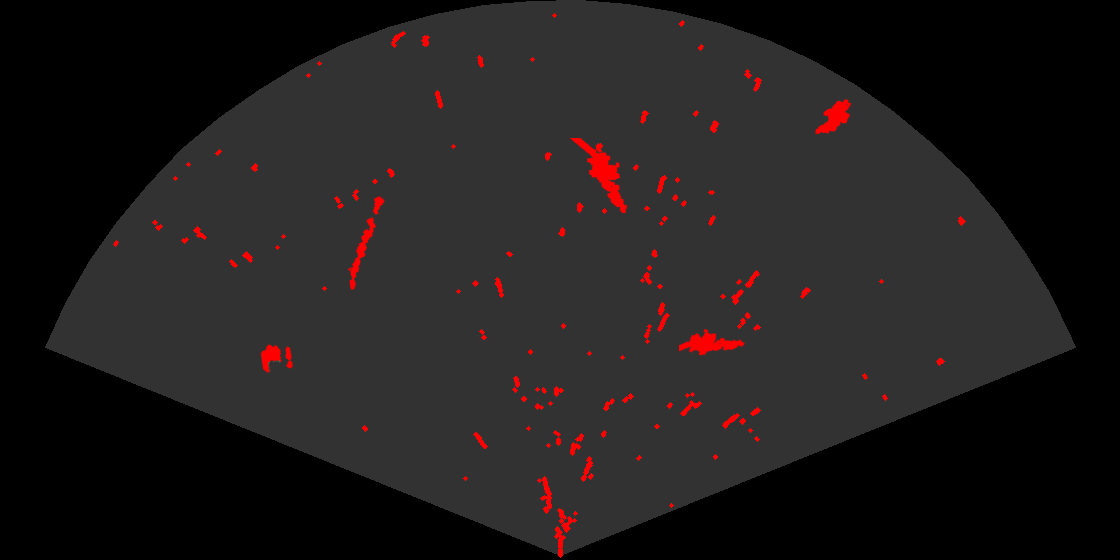AUV: (814, 98, 853, 136)
ball: (259, 343, 294, 375)
chain: (348, 194, 386, 291)
frogman: (570, 138, 629, 215), (679, 327, 746, 357)
